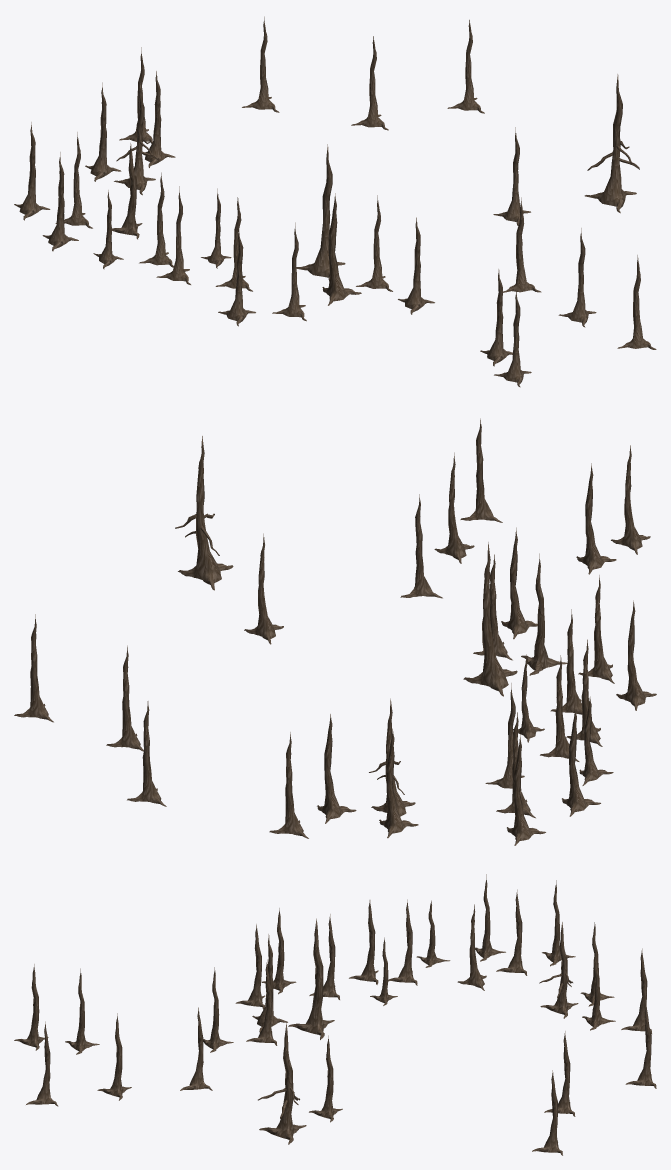
File: songshugan_06.FBX
3 renders of one model, top to bottom at view 1: azimuth 30°, elevation 25°; view 2: azimuth 150°, elevation 25°; view 3: azimuth 270°, elevation 25°, orthographic. The views are drawn at different scales.
Visible parts, largest first — view 1: Object030; view 2: Object030; view 3: Object030.
Boxes of the visible parts, x1,y1,x2,y2 form: Object030: (14,16,656,387); Object030: (14,418,656,845); Object030: (14,874,656,1155).
Size of the model in its own units: 8769 by 2574 by 11327.
